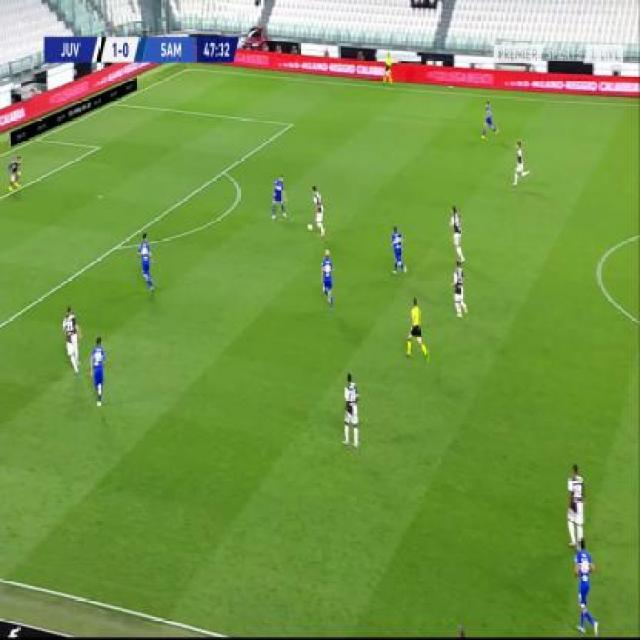ball: (306, 220, 314, 233)
player: (572, 532, 600, 637), (565, 459, 587, 547), (405, 295, 430, 363), (341, 370, 361, 452), (63, 303, 83, 374), (89, 335, 108, 403), (136, 233, 156, 293), (451, 261, 470, 321), (448, 206, 467, 263), (389, 223, 408, 277), (511, 139, 531, 190), (320, 250, 336, 313), (309, 182, 326, 238), (270, 172, 289, 221), (481, 98, 500, 140), (6, 153, 23, 196), (382, 50, 393, 86)
